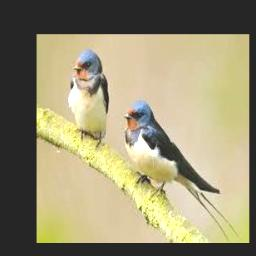Swallow: (123, 101, 238, 240), (68, 50, 110, 142)
